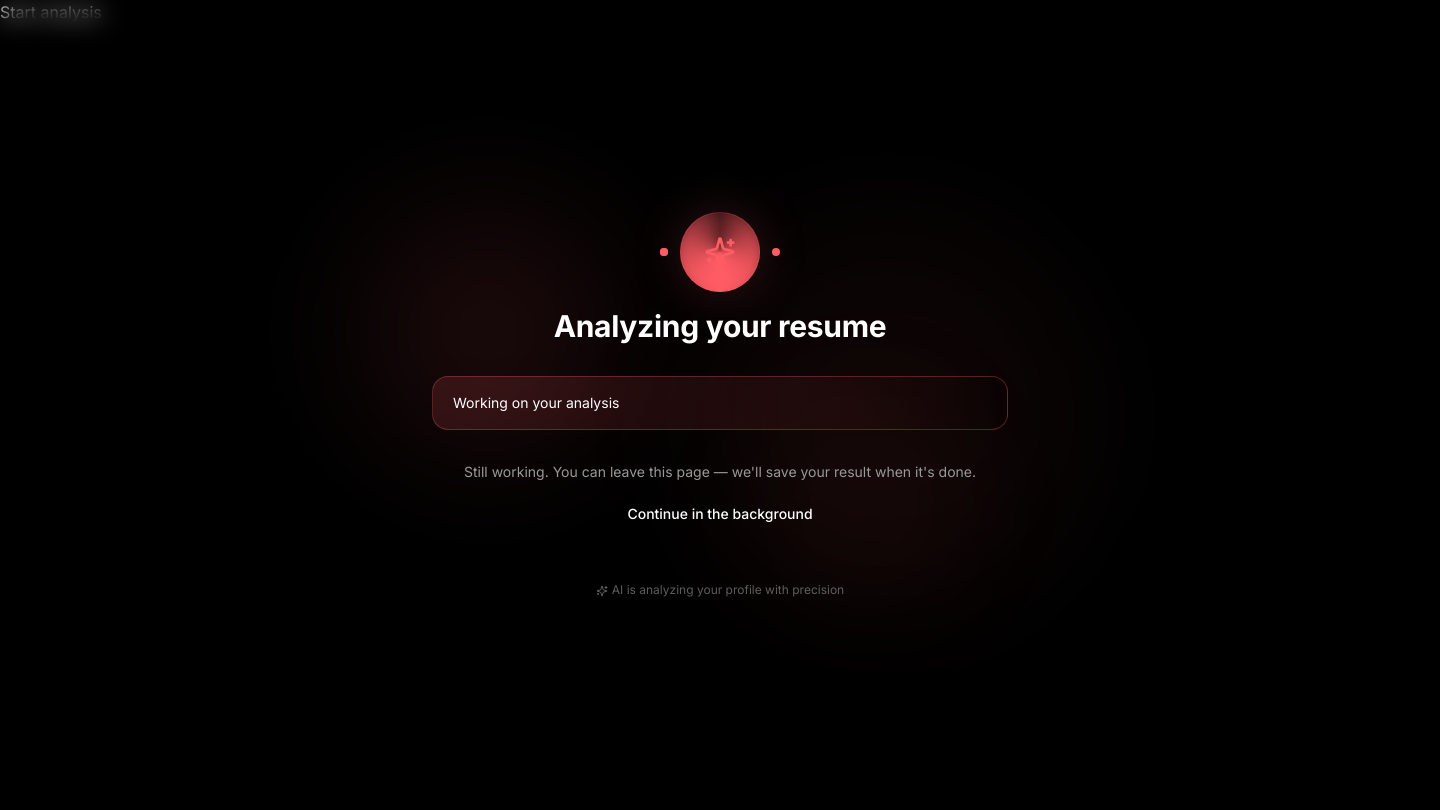
Test: UniversalAnalyzing › reveals background continuation at 45 seconds and restores scroll and focus
Click the button "Continue in the background" at (720, 514), box [611,494,829,534]
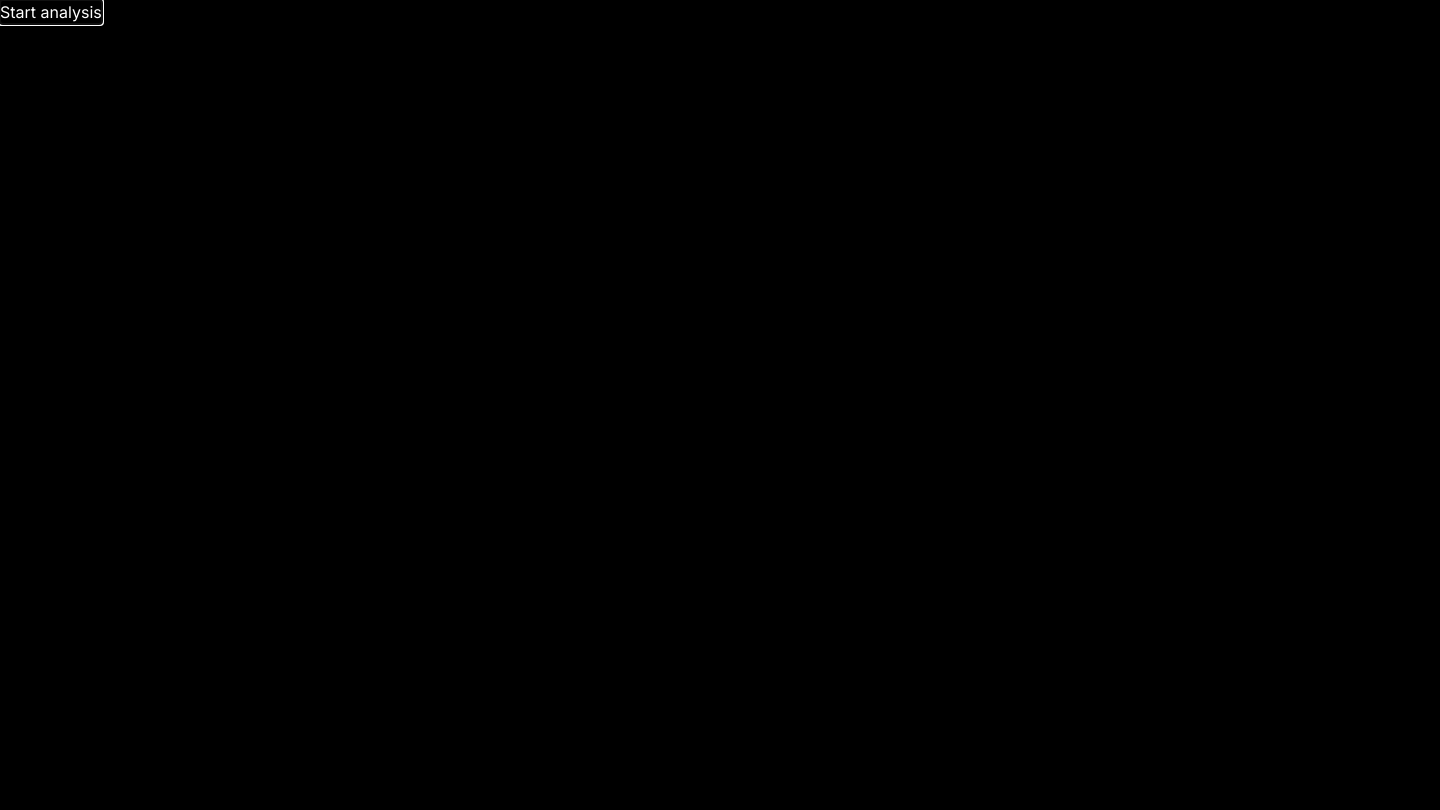
Now the dialog is gone
